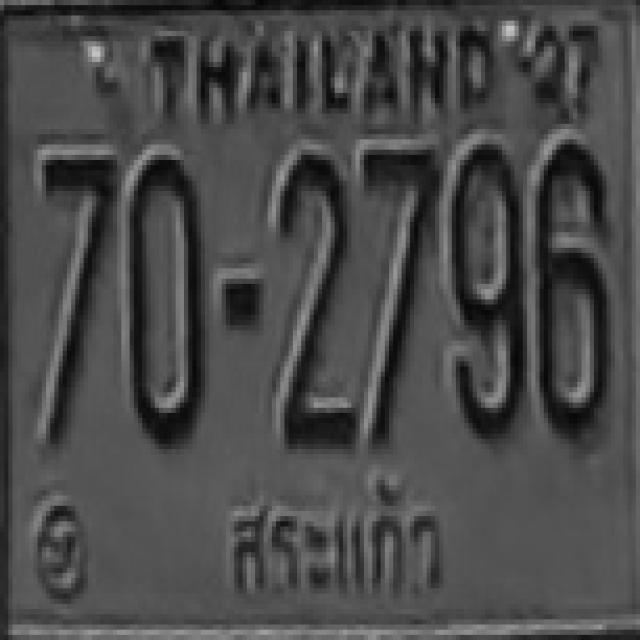0: (127, 150, 203, 444)
2: (271, 148, 357, 452)
6: (533, 138, 614, 438)
7: (360, 142, 439, 441), (42, 152, 117, 448)
9: (448, 142, 524, 436)
SaKaeo: (219, 475, 470, 631)
